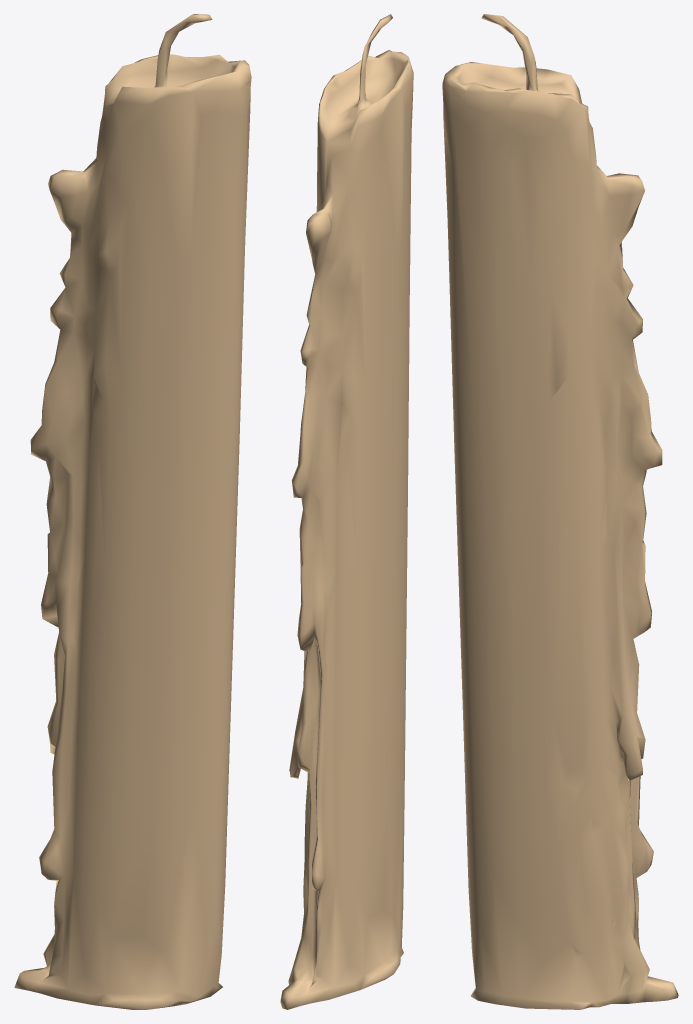
The model's file is Candles001_CandleMelted01_Geo_LOD0.gltf.
The picture shows the model from 3 angles, left to right: view 1: azimuth 90°, elevation 25°; view 2: azimuth 150°, elevation 25°; view 3: azimuth 270°, elevation 25°; orthographic projection. The views are drawn at different scales.
Visible parts, largest first — view 1: Candles001_CandleMelted01_Geo_LOD0.001; view 2: Candles001_CandleMelted01_Geo_LOD0.001; view 3: Candles001_CandleMelted01_Geo_LOD0.001.
Boxes of the visible parts, x1,y1,x2,y2 form: Candles001_CandleMelted01_Geo_LOD0.001: [14, 14, 251, 1009]; Candles001_CandleMelted01_Geo_LOD0.001: [280, 14, 413, 1009]; Candles001_CandleMelted01_Geo_LOD0.001: [442, 14, 678, 1009].
Size of the model in its own units: 0.0224 by 0.274 by 0.0602.
